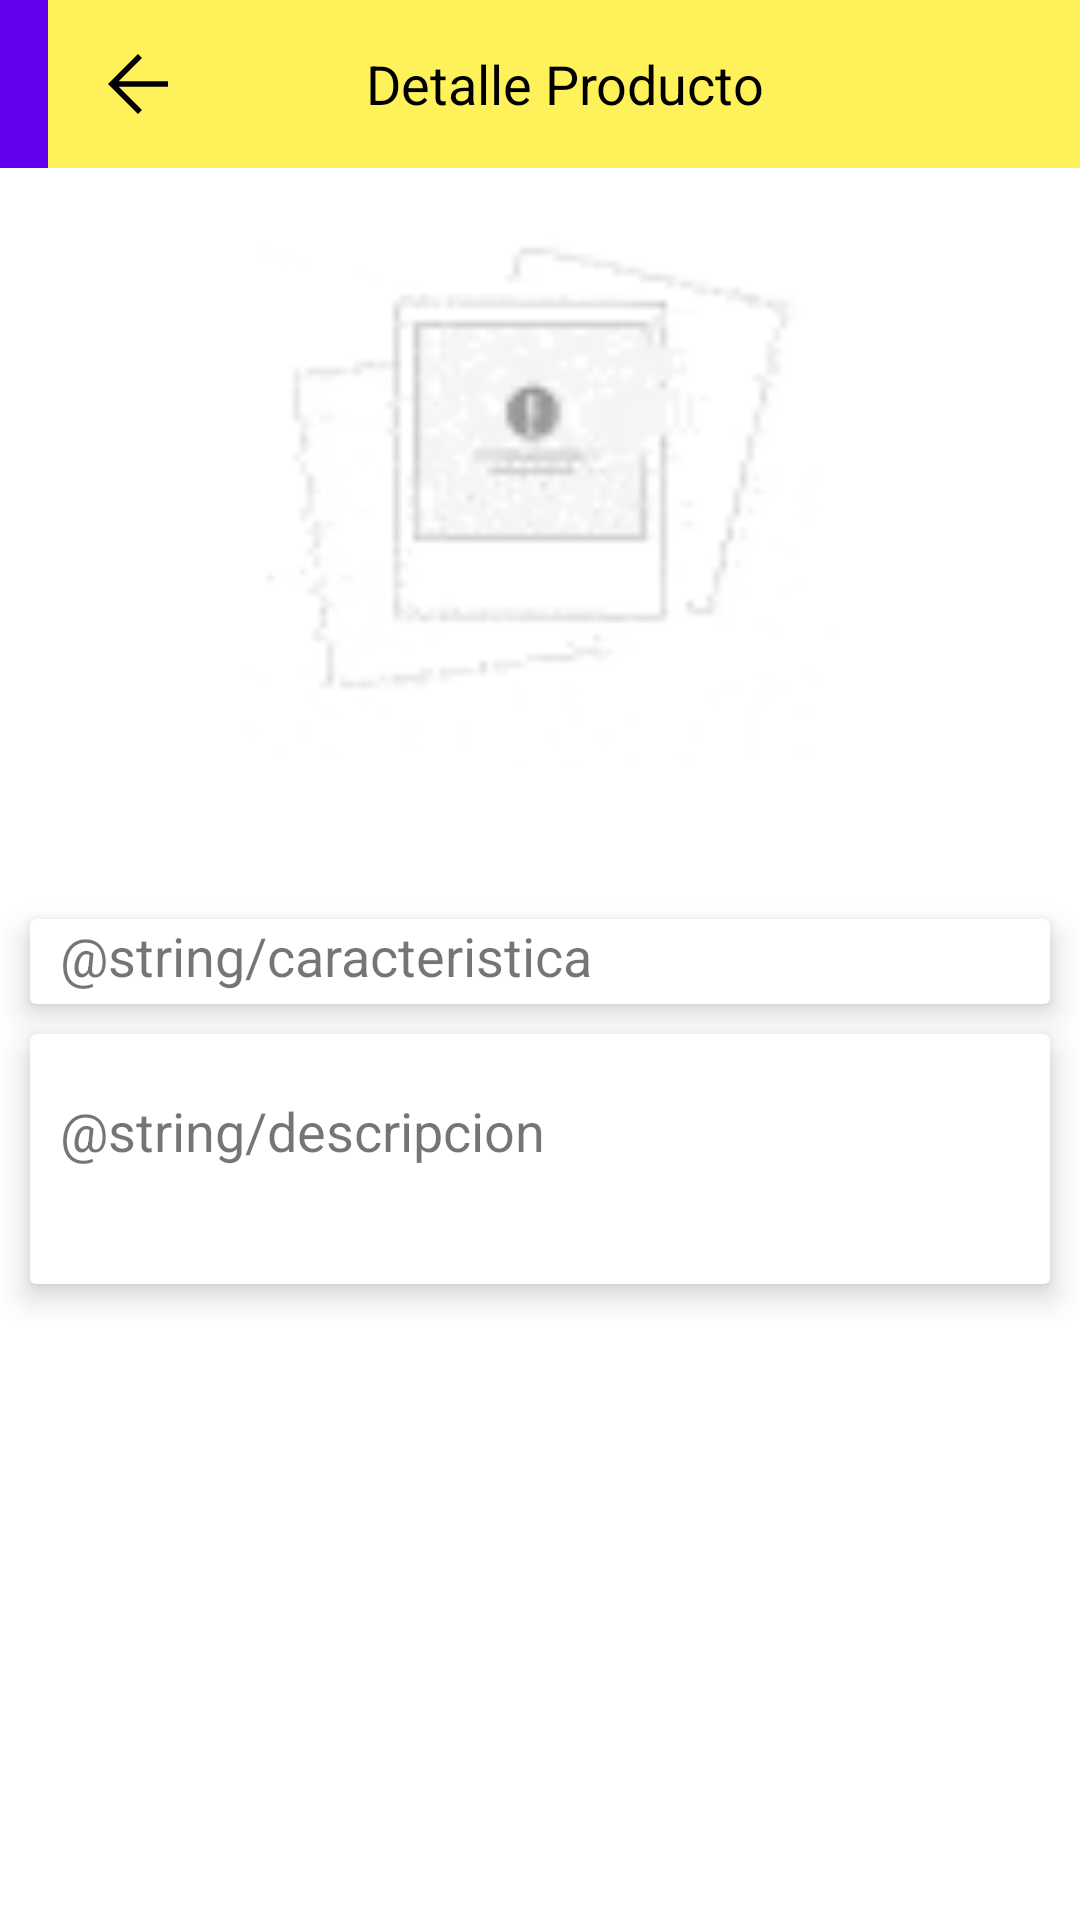

Screen size 1080 x 1920. Icon name, then its box in pixels as (x1, y1, x2, y2):
arrow back: (108, 54, 168, 114)
